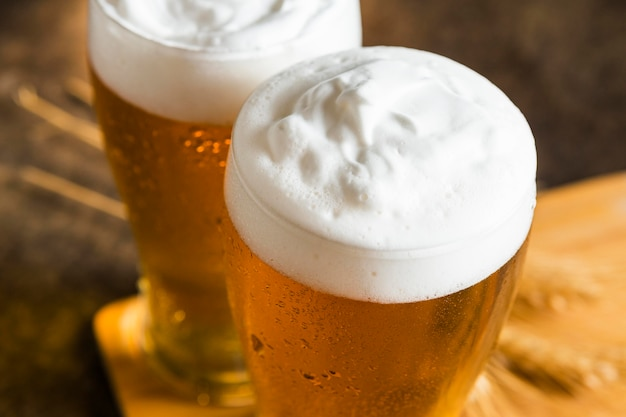alcohol: (224, 42, 535, 417), (87, 0, 364, 413)
